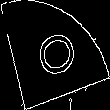O_W: (29, 26, 81, 84)
